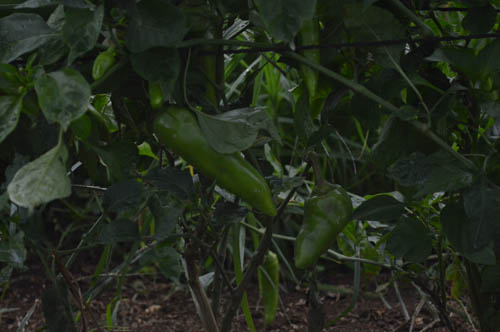ChiliPepper: (159, 109, 276, 215), (291, 188, 356, 268), (297, 16, 323, 92), (262, 258, 282, 318)
